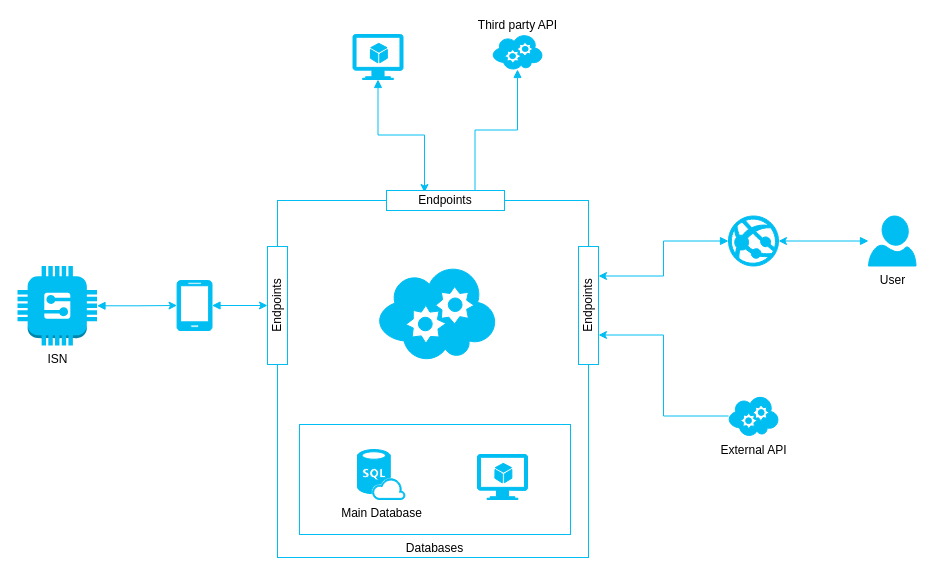
This 934x575 diagram has some shape labels left out. The centre of each missing label's shape, as x and y in pixels:
"CombiQ Core Services" goes at (436,312).
"Gateway" goes at (194,305).
"High Speed Database" goes at (502,477).
"Machine Learning Services" goes at (377,57).
"User interface" goes at (753,240).
